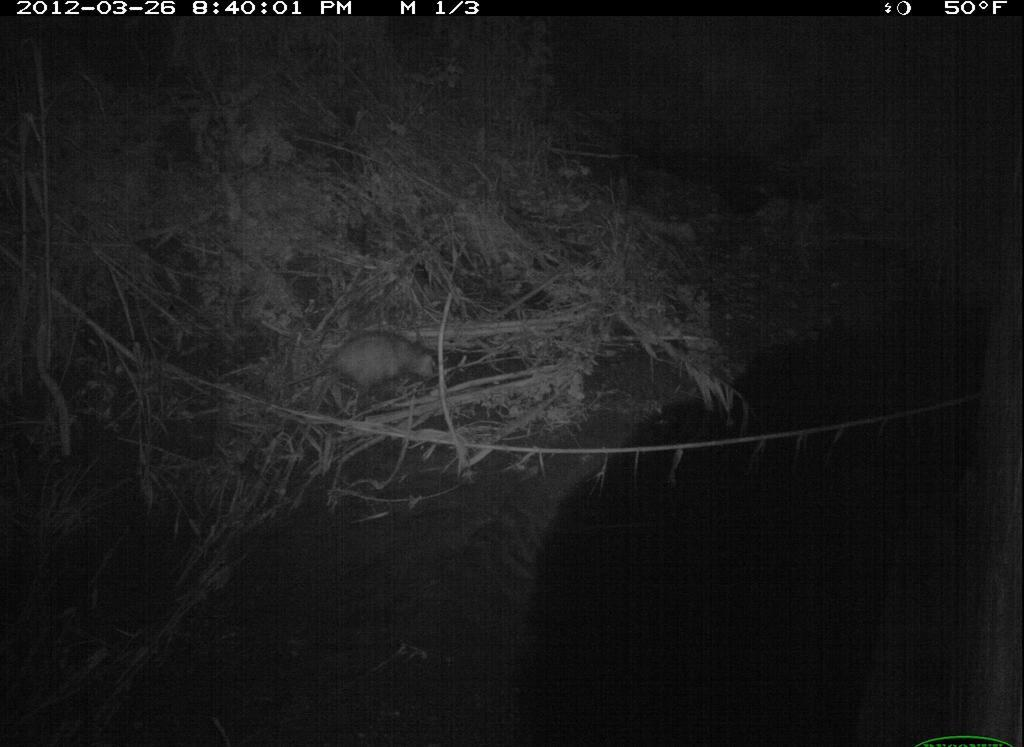opossum: (262, 324, 469, 425)
